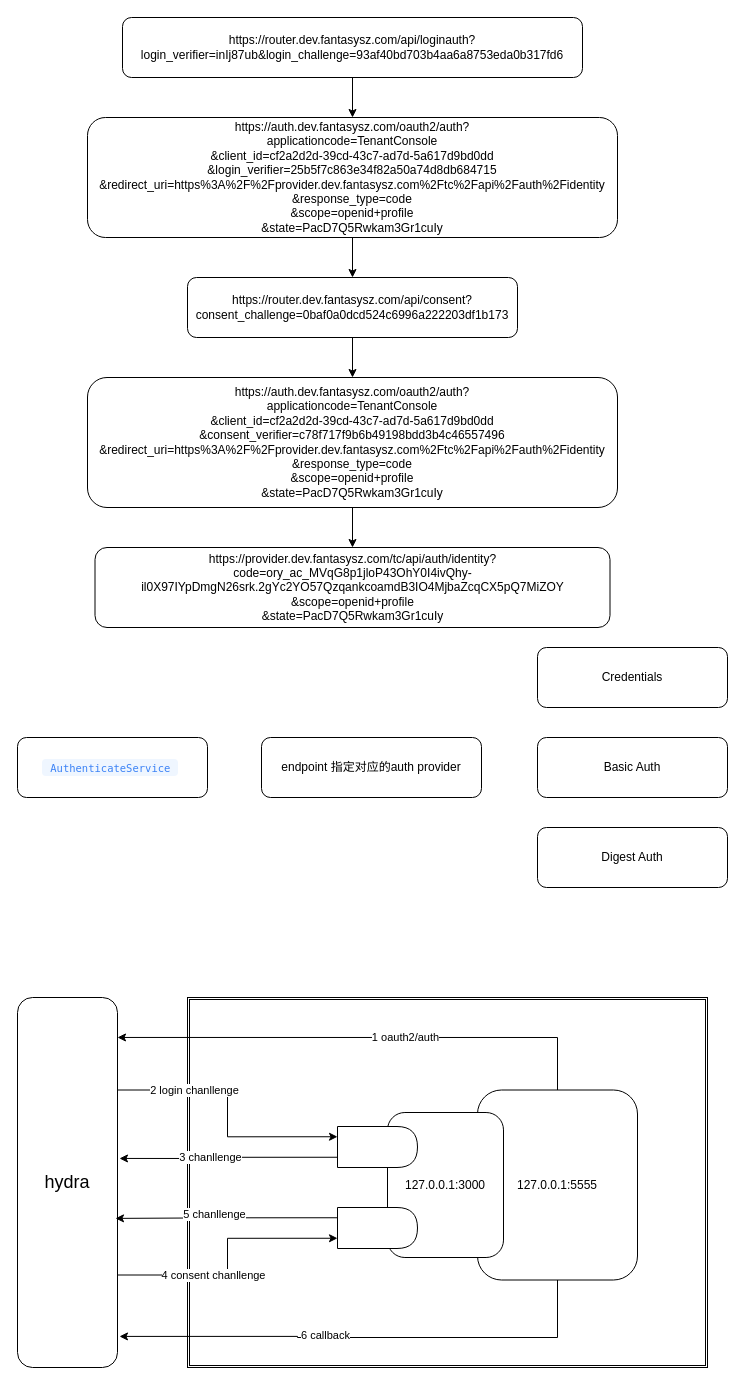
The diagram is 745 pixels wide and 1385 high, and some of its shapes have lost their labels. Each missing label, with the centre of its shape:
consent: the point at 377,1227
login: the point at 377,1147
